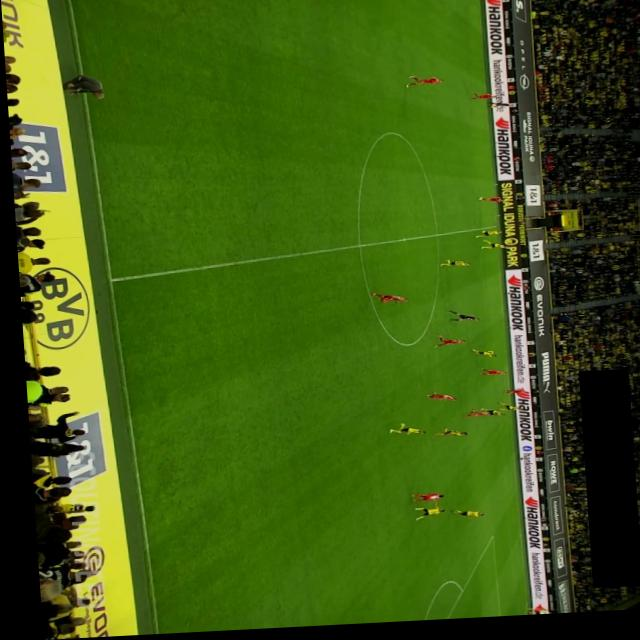player: (405, 505, 438, 525), (380, 426, 419, 440), (403, 79, 442, 93), (366, 295, 403, 309), (426, 431, 461, 443), (428, 339, 460, 352), (442, 513, 477, 524), (419, 395, 451, 407), (402, 497, 437, 507), (455, 413, 484, 424), (466, 352, 492, 364), (476, 244, 503, 255), (473, 372, 501, 382), (470, 235, 500, 244), (435, 264, 465, 272), (473, 413, 499, 422), (490, 407, 513, 416), (467, 98, 493, 105), (474, 202, 499, 209), (497, 394, 521, 401)
referee: (442, 314, 474, 328), (484, 107, 509, 114)
